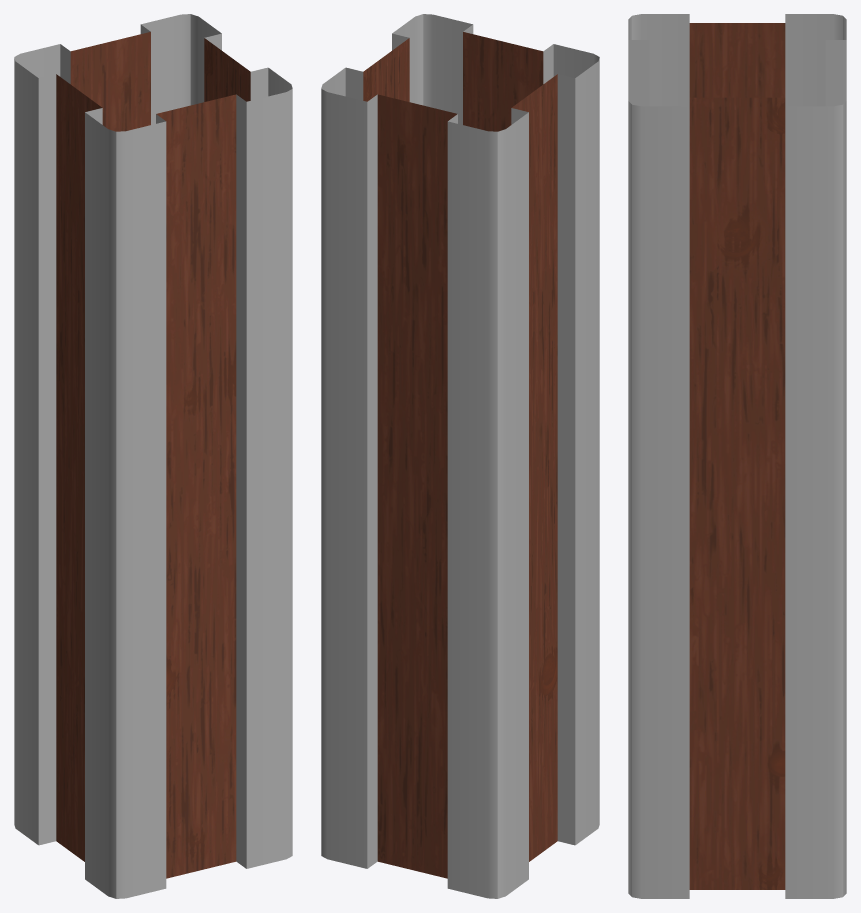
The model's file is En_W_piller.fbx.
The picture shows the model from 3 angles, left to right: view 1: azimuth 30°, elevation 25°; view 2: azimuth 150°, elevation 25°; view 3: azimuth 270°, elevation 25°; orthographic projection. The views are drawn at different scales.
Visible parts, largest first — view 1: En_W_piller; view 2: En_W_piller; view 3: En_W_piller.
Part boxes in pixels (x1,y1,x2,y2): En_W_piller: (14,14,292,898); En_W_piller: (321,14,599,898); En_W_piller: (628,14,846,898).
Bounding box in the file's own units: 100 × 400 × 100.
